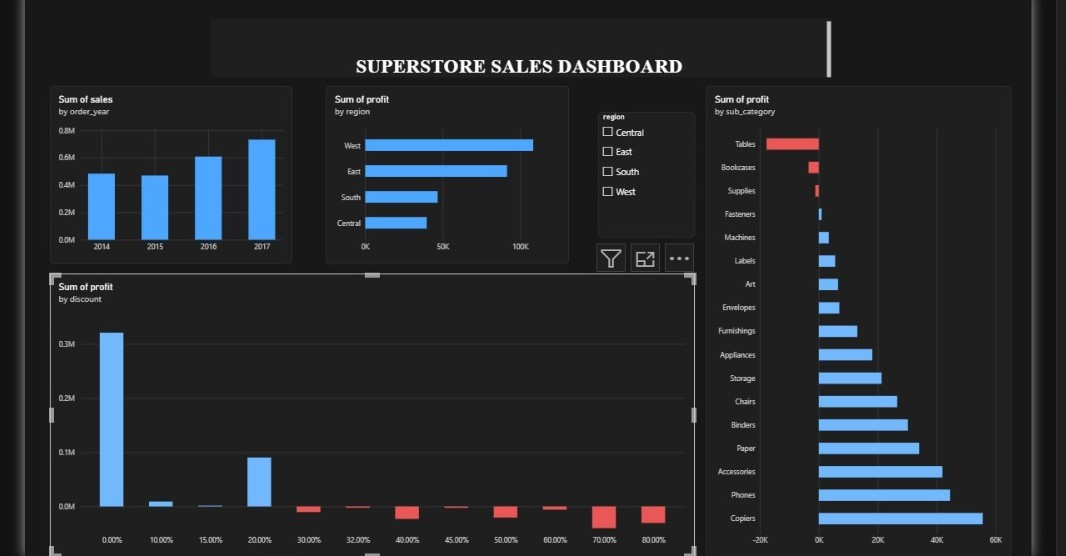

The page's visual inventory and layout, read from the dashboard file:
{"tool":"powerbi","page":{"name":"Page 1","canvas":[1920,1080],"ordinal":0},"visuals":[{"type":"clusteredColumnChart","fields":{"Category":["superstore_clean.order_year"],"Y":["Sum(superstore_clean.sales)"]},"box":[47.7,181.3,462.9,338.8],"z":0},{"type":"clusteredBarChart","fields":{"Category":["superstore_clean.region"],"Y":["Sum(superstore_clean.profit)"]},"box":[575,181.3,463,339],"z":1000},{"type":"clusteredBarChart","fields":{"Category":["superstore_clean.sub_category"],"Y":["Sum(superstore_clean.profit)"]},"box":[1300.3,181.3,582.2,899.5],"z":2000},{"type":"clusteredColumnChart","fields":{"Category":["superstore_clean.discount"],"Y":["Sum(superstore_clean.profit)"]},"box":[47.7,539.2,1231.1,541.6],"z":3000},{"type":"slicer","fields":{"Values":["superstore_clean.region"]},"box":[1095.1,231.4,183.7,238.6],"z":5001},{"type":"textbox","box":[355.5,52.5,1183.4,112.1],"z":5002}]}

Visuals, with their boxes on the page's 1920x1080 design canvas (x1, y1, x2, y2). These are canvas units, not pixel positions in the 1066x556 screenshot, which may show the page scaled, cropped or inside an application window:
clusteredColumnChart - superstore_clean.order_year x Sum(superstore_clean.sales): [48,181,511,520]
clusteredBarChart - superstore_clean.region x Sum(superstore_clean.profit): [575,181,1038,520]
clusteredBarChart - superstore_clean.sub_category x Sum(superstore_clean.profit): [1300,181,1882,1081]
clusteredColumnChart - superstore_clean.discount x Sum(superstore_clean.profit): [48,539,1279,1081]
slicer - superstore_clean.region: [1095,231,1279,470]
textbox: [356,52,1539,165]
